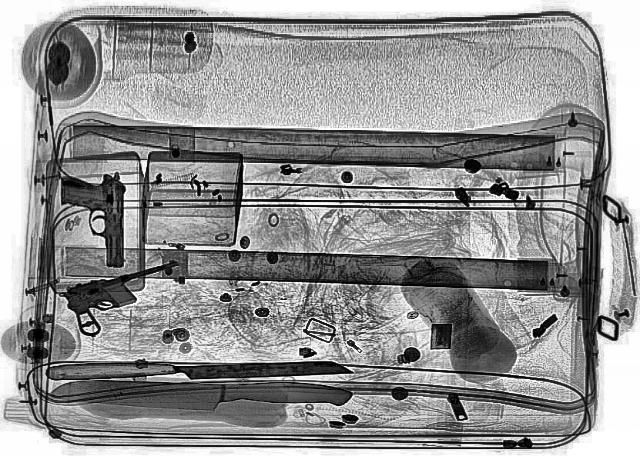Gun: (52, 256, 208, 338), (59, 170, 125, 268)
Knife: (45, 377, 352, 409), (42, 354, 358, 384)
